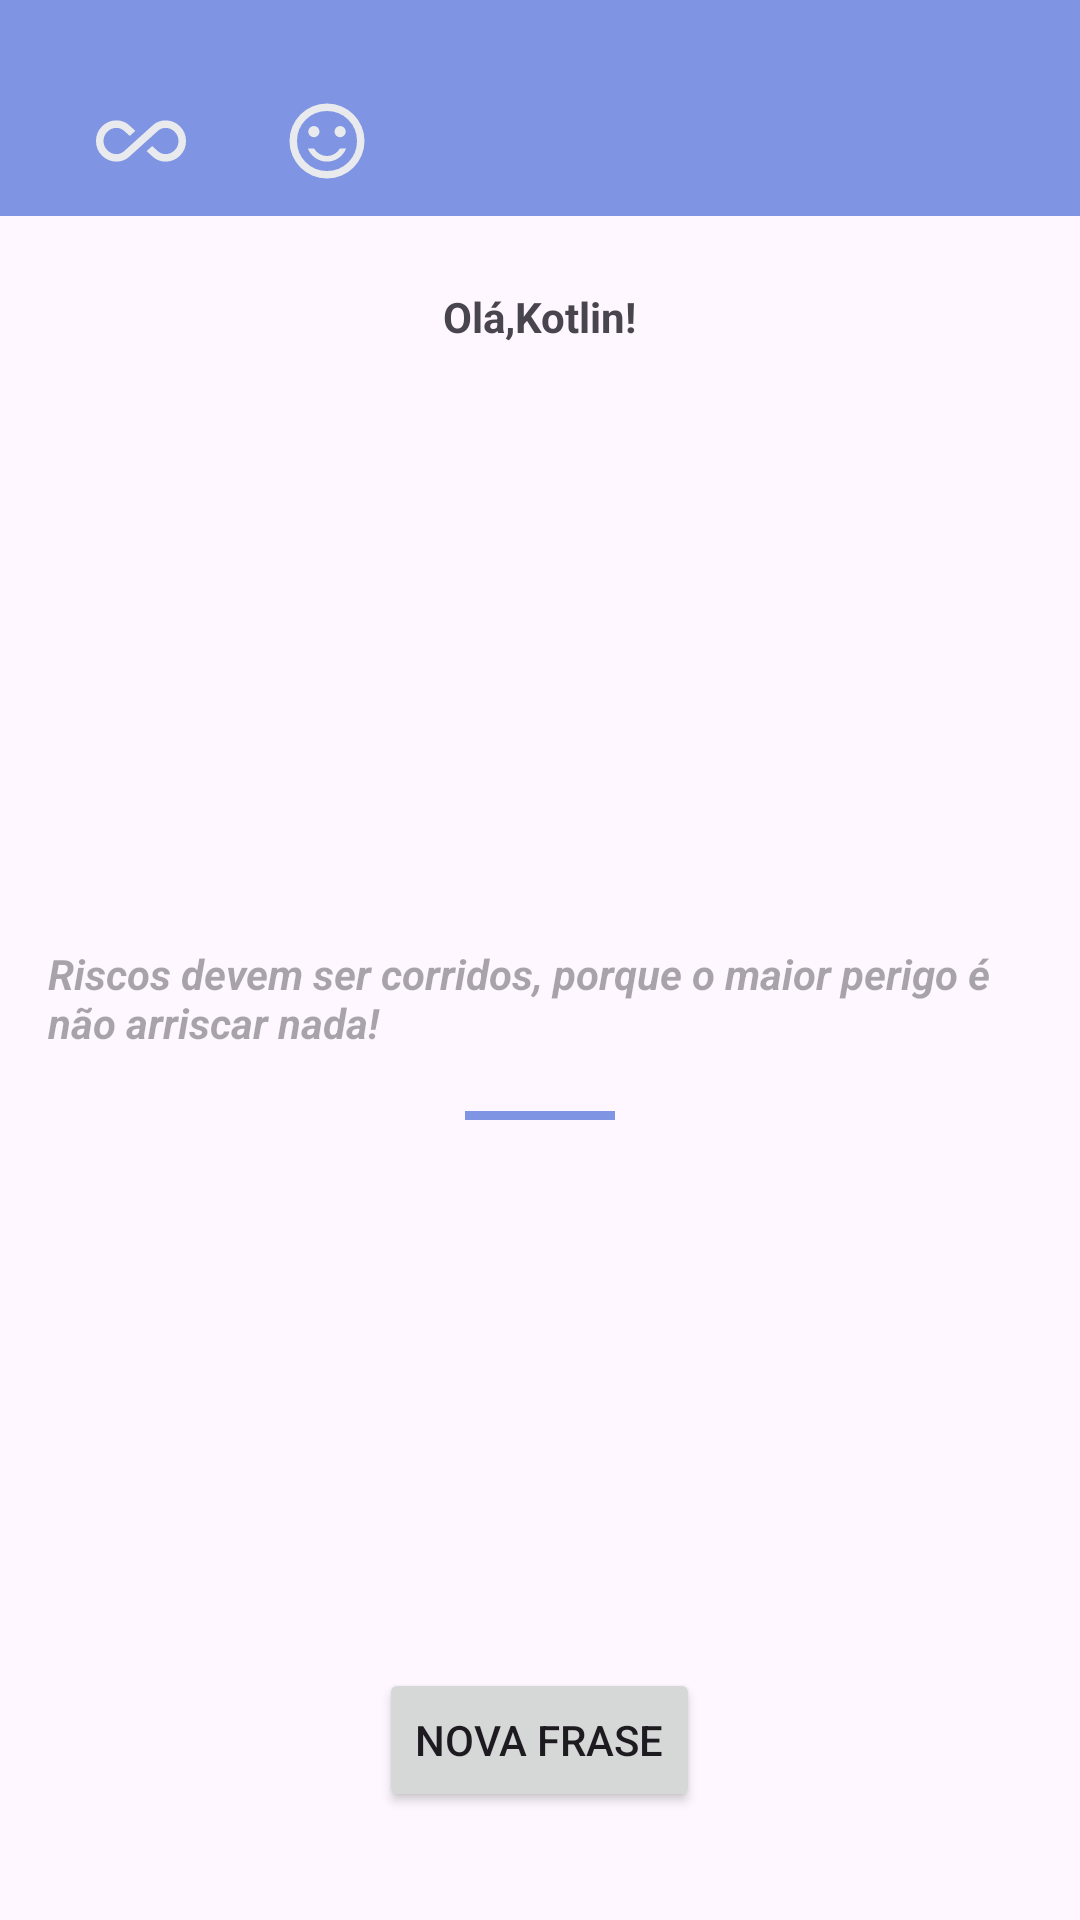

Where icons sit on this 1080w x 1920h app screen, as (x1, y1, x2, y2):
Icone Infinito: (96, 120, 186, 162)
Icone Smile: (289, 103, 365, 179)
